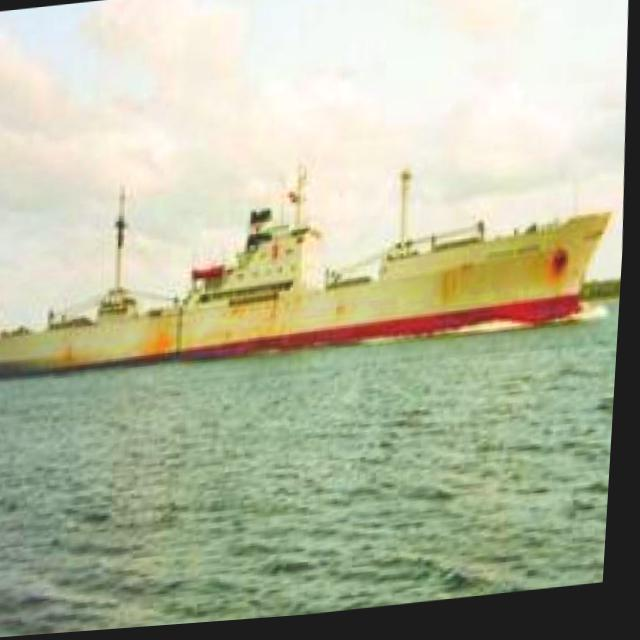ship2: (0, 164, 615, 381)
